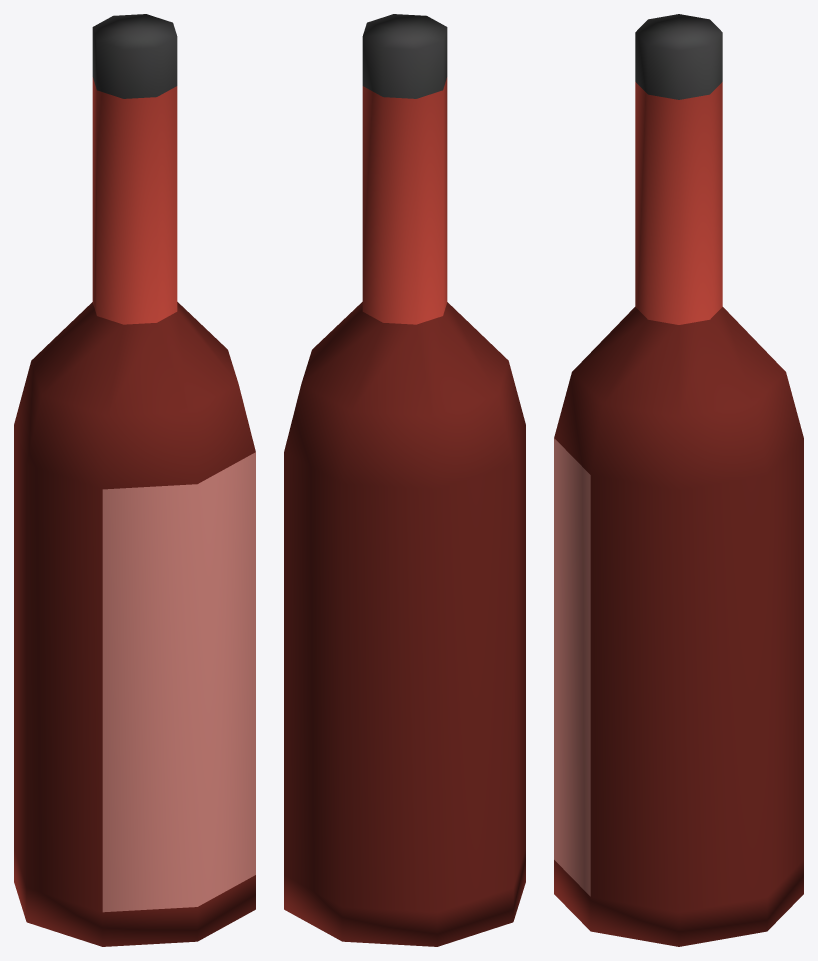
File: Bottle1.fbx
The picture shows the model from 3 angles, left to right: view 1: azimuth 30°, elevation 25°; view 2: azimuth 150°, elevation 25°; view 3: azimuth 270°, elevation 25°; orthographic projection.
Visible parts, largest first — view 1: Bottle1; view 2: Bottle1; view 3: Bottle1.
Part boxes in pixels (x1,y1,x2,y2): Bottle1: [14, 14, 255, 946]; Bottle1: [284, 14, 525, 946]; Bottle1: [554, 14, 803, 946].
Bounding box in the file's own units: 11.81 × 44.95 × 11.81.
